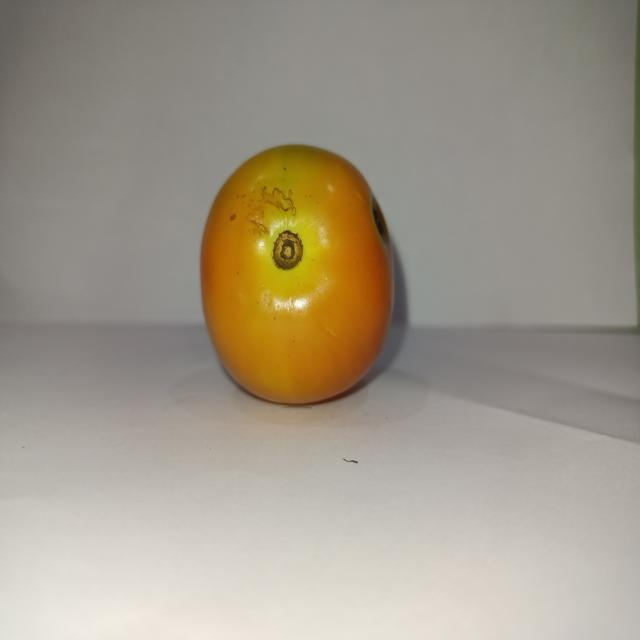Red: (198, 142, 395, 405)
